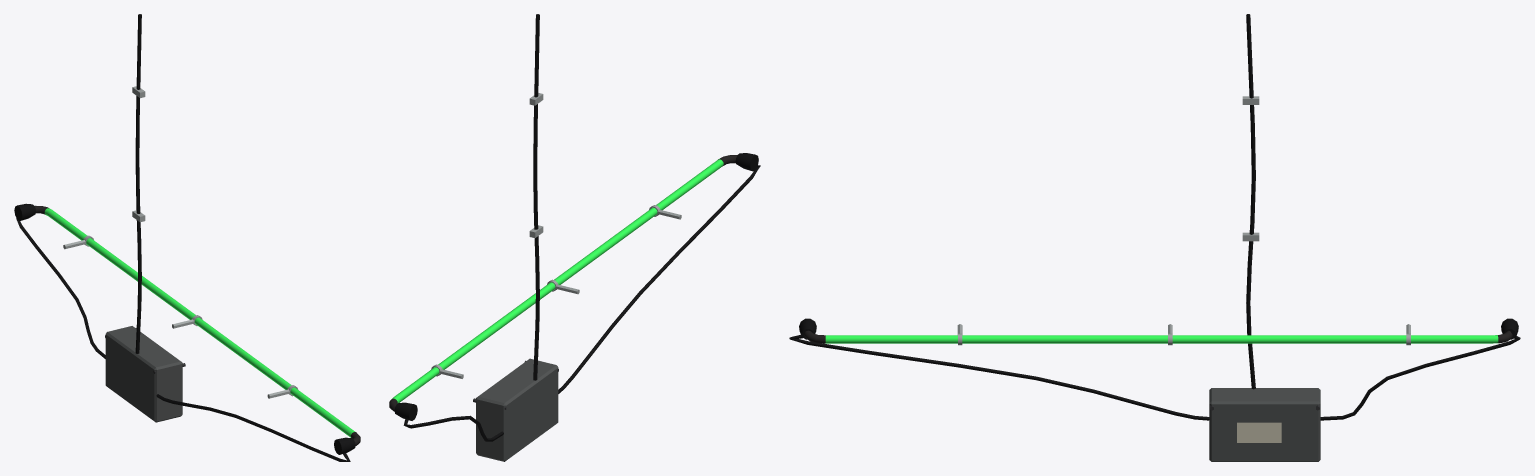
File: neon_tube@1.glb
The picture shows the model from 3 angles, left to right: view 1: azimuth 30°, elevation 25°; view 2: azimuth 150°, elevation 25°; view 3: azimuth 270°, elevation 25°; orthographic projection. The views are drawn at different scales.
Visible parts, largest first — view 1: teil4, teil0, teil7, teil2, teil3; view 2: teil4, teil7, teil0, teil2, teil3; view 3: teil4, teil0, teil7, teil5.
Boxes of the visible parts, bbox=[...] form: teil4: bbox=[105, 326, 182, 422]; teil0: bbox=[44, 208, 355, 437]; teil7: bbox=[16, 14, 350, 461]; teil2: bbox=[14, 203, 355, 454]; teil3: bbox=[63, 235, 298, 398]; teil4: bbox=[476, 358, 558, 461]; teil7: bbox=[403, 14, 760, 441]; teil0: bbox=[392, 159, 723, 403]; teil2: bbox=[394, 153, 758, 420]; teil3: bbox=[431, 205, 681, 378]; teil4: bbox=[1209, 388, 1320, 461]; teil0: bbox=[825, 335, 1498, 343]; teil7: bbox=[789, 14, 1520, 420]; teil5: bbox=[1237, 422, 1281, 442].
Bounding box in the file's own units: 0.07 × 0.8601 × 1.31.
